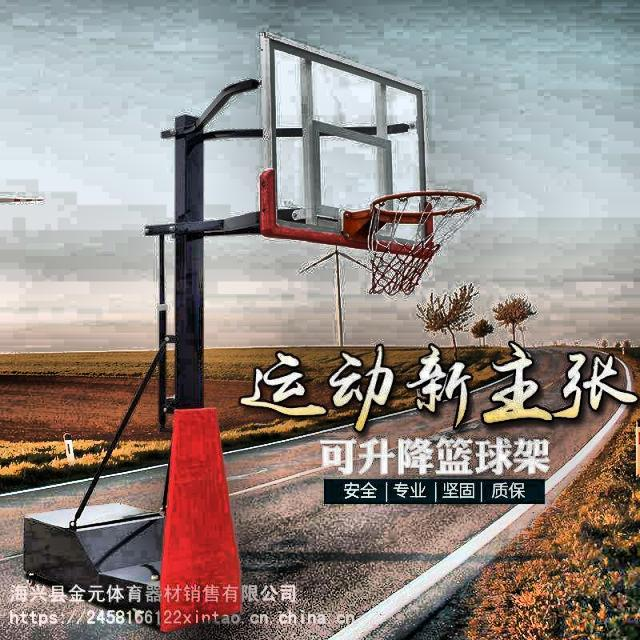rim: (366, 190, 481, 294)
